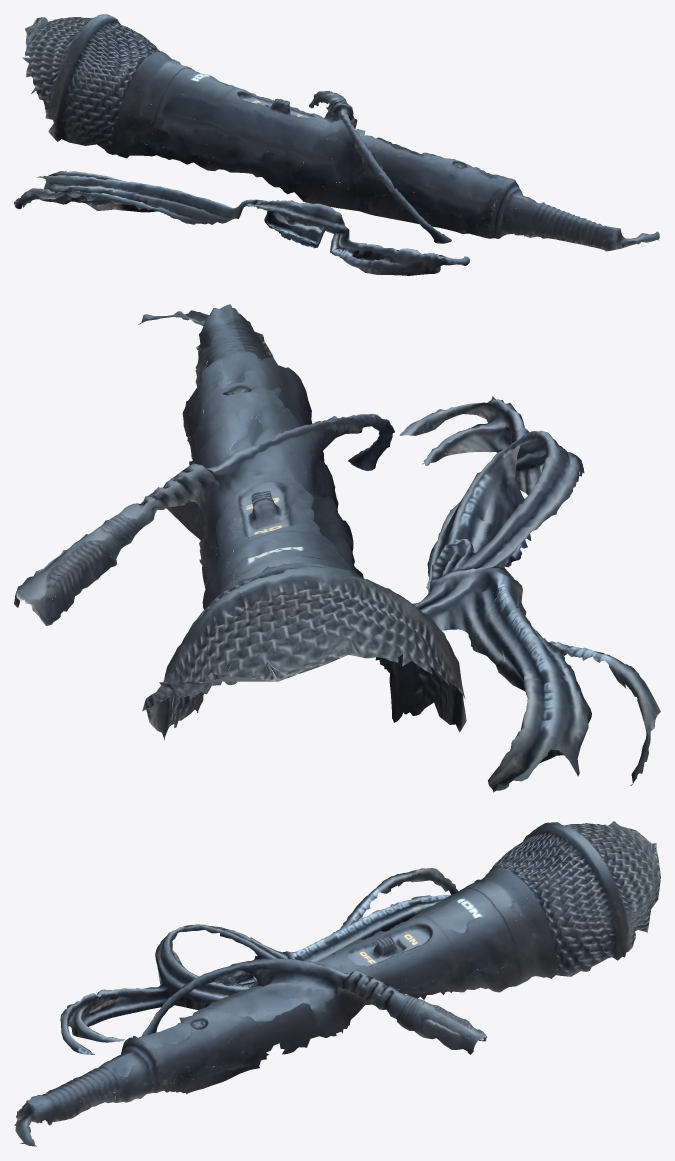
File: micro.glb
3 views of the same model, one above another, from view 1: azimuth 30°, elevation 25°; view 2: azimuth 150°, elevation 25°; view 3: azimuth 270°, elevation 25° (orthographic). The views are drawn at different scales.
Visible parts, largest first — view 1: Object_4; view 2: Object_4; view 3: Object_4.
Part boxes in pixels (x1,y1,x2,y2): Object_4: (14,14,659,275); Object_4: (14,304,660,792); Object_4: (14,821,660,1146).
Bounding box in the file's own units: 0.4229 × 0.1068 × 0.4581.
1 material, 1 textured.
